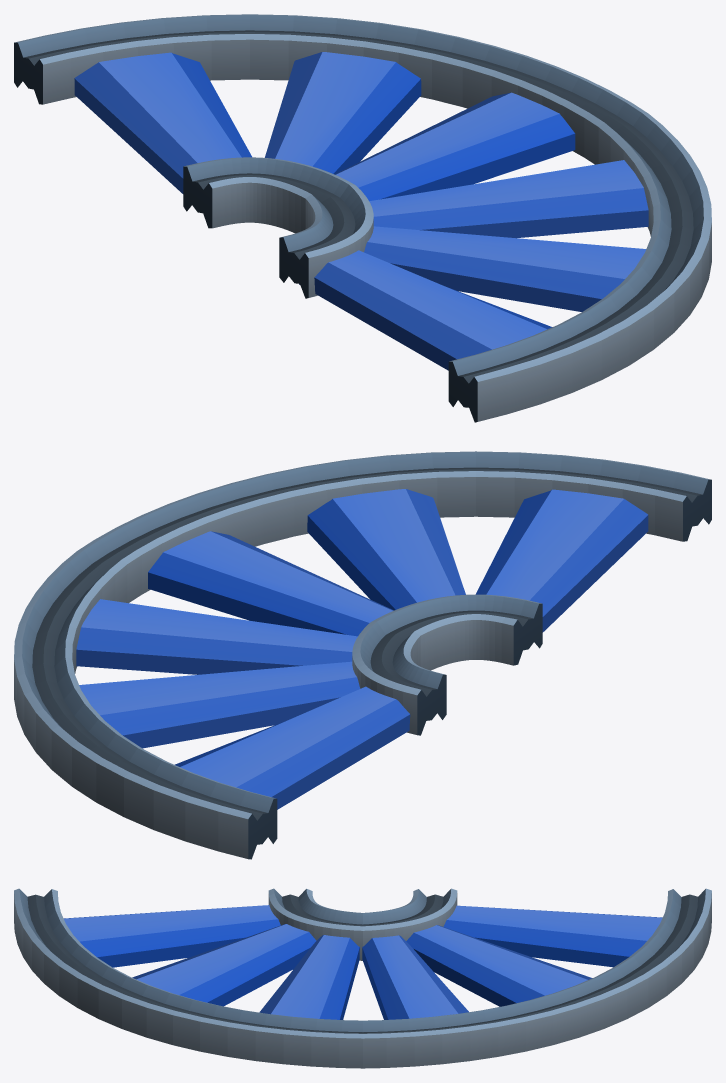
The model's file is 2Br-U-Ray.fbx.
3 views of the same model, one above another, from view 1: azimuth 30°, elevation 25°; view 2: azimuth 150°, elevation 25°; view 3: azimuth 270°, elevation 25° (orthographic). The views are drawn at different scales.
Visible parts, largest first — view 1: 2br-U; view 2: 2br-U; view 3: 2br-U.
Part boxes in pixels (x1,y1,x2,y2): 2br-U: (14, 14, 711, 422); 2br-U: (14, 451, 711, 859); 2br-U: (14, 888, 711, 1068).
Bounding box in the file's own units: 176 × 19.17 × 350.
